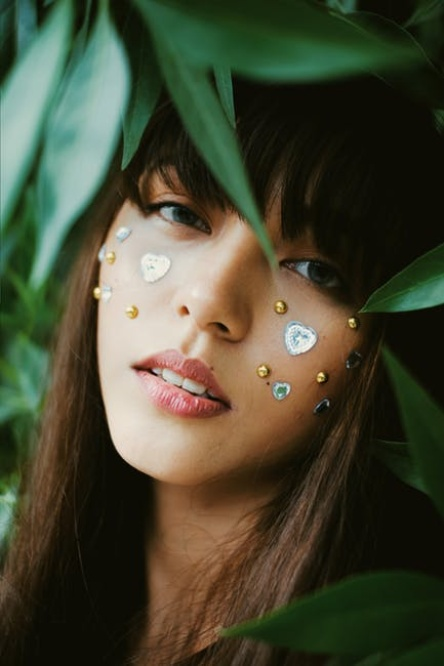face: (96, 158, 357, 483)
